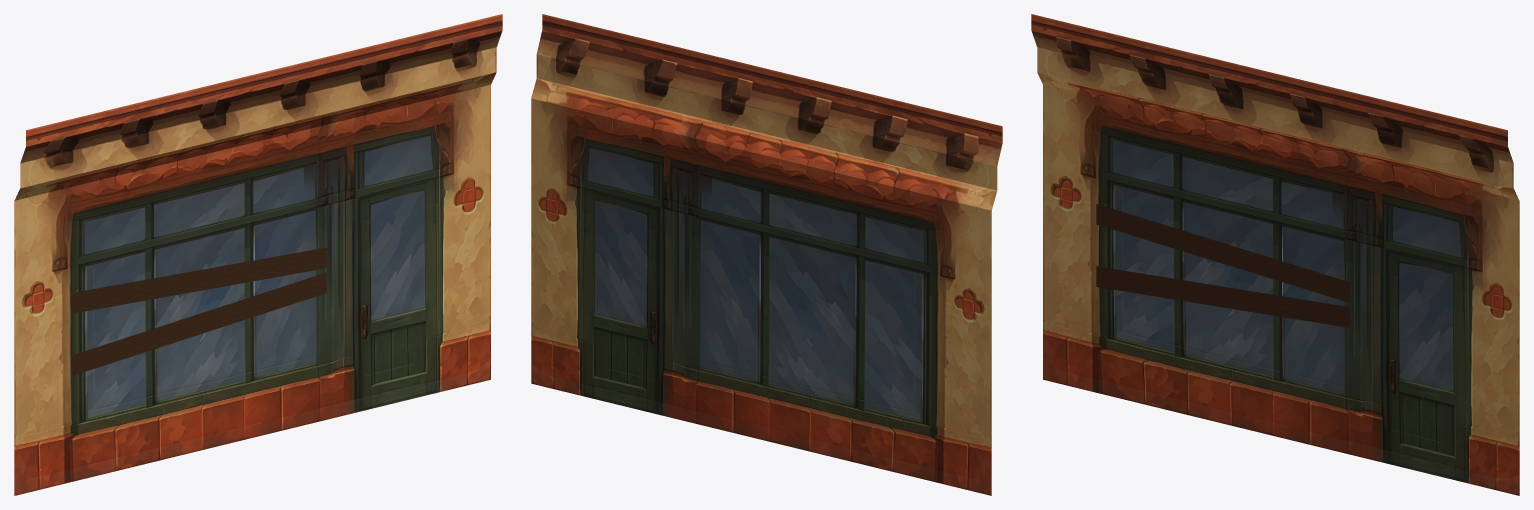
File: MSN_Damaged_G_Bay6.fbx
The picture shows the model from 3 angles, left to right: view 1: azimuth 30°, elevation 25°; view 2: azimuth 150°, elevation 25°; view 3: azimuth 330°, elevation 25°; orthographic projection. The views are drawn at different scales.
Parts seen in each view (by area): view 1: MSN_Damaged_G_Bay6; view 2: MSN_Damaged_G_Bay6; view 3: MSN_Damaged_G_Bay6.
Part boxes in pixels (left/top/right/bottom): MSN_Damaged_G_Bay6: left=14, top=14, right=502, bottom=495; MSN_Damaged_G_Bay6: left=531, top=14, right=1002, bottom=495; MSN_Damaged_G_Bay6: left=1031, top=14, right=1519, bottom=495.
Size of the model in its own units: 6 by 0.25 by 4.5.
Materials: 1 (1 with a texture image).
